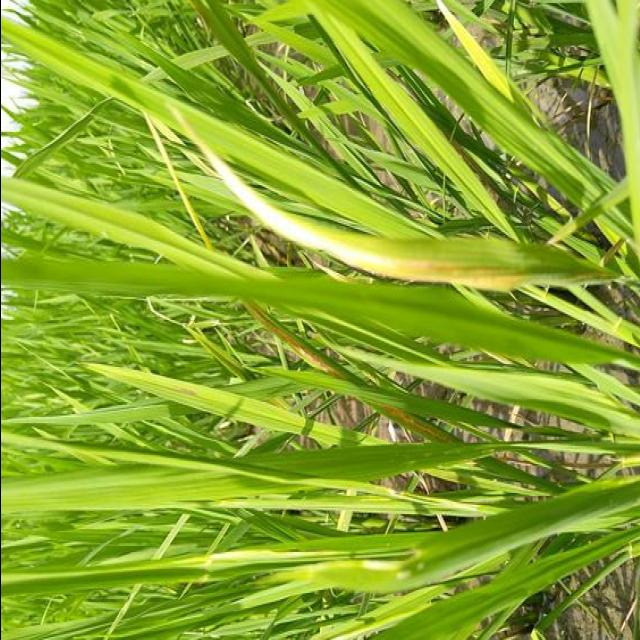Leaf Blight: (177, 114, 525, 288), (142, 112, 220, 252), (245, 302, 348, 379), (361, 399, 453, 440)
